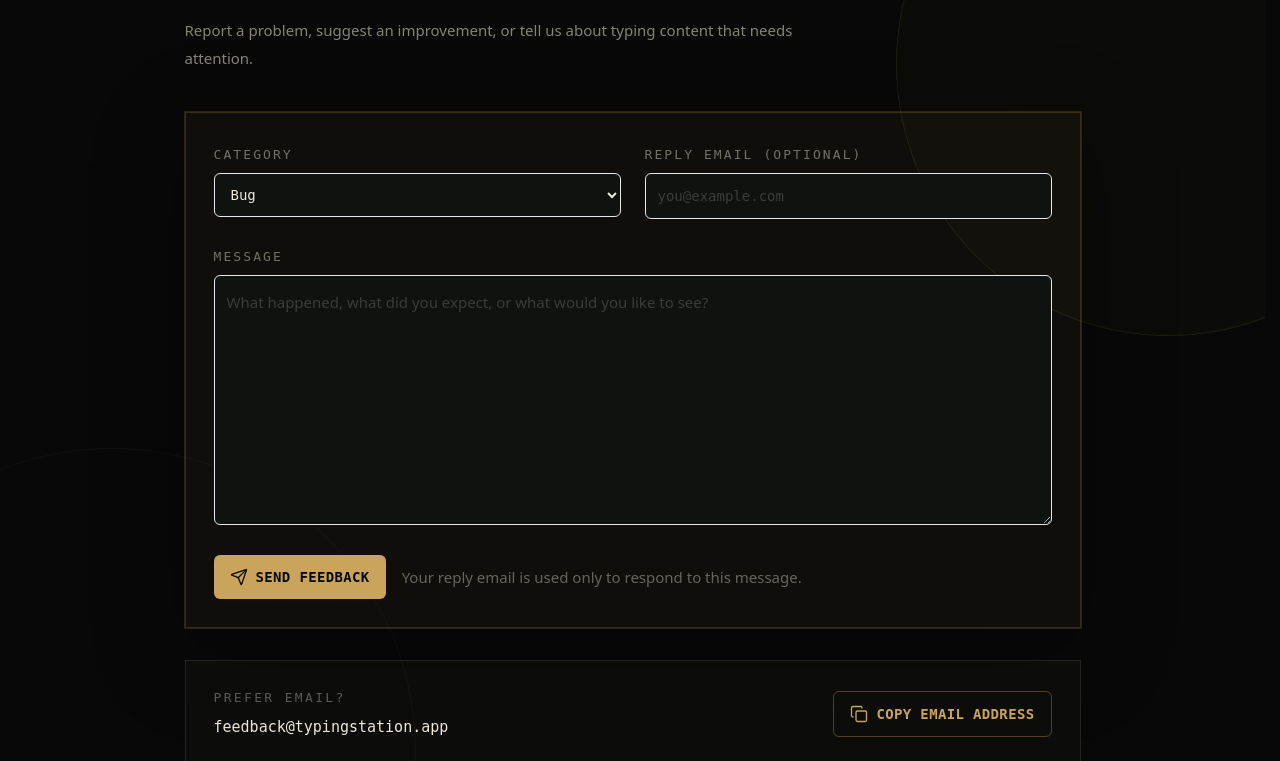
Test: FeedbackPage › preserves form data and shows an accessible retry message when rate limited
(page scrolled)
Replace the text in the text box labelled "Message" with "Please keep this draft." at (632, 400), box [214,275,1052,525]
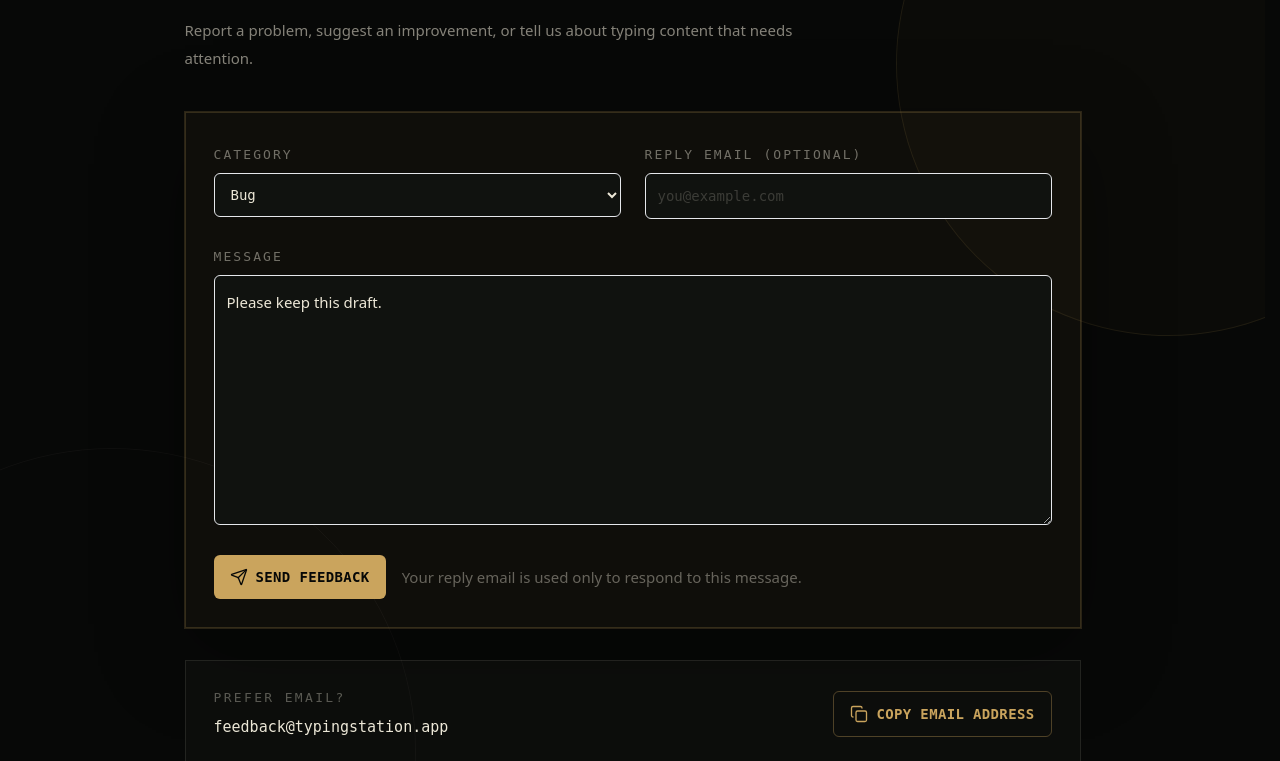
Click the button "Send feedback" at (300, 577), box [214,555,386,599]
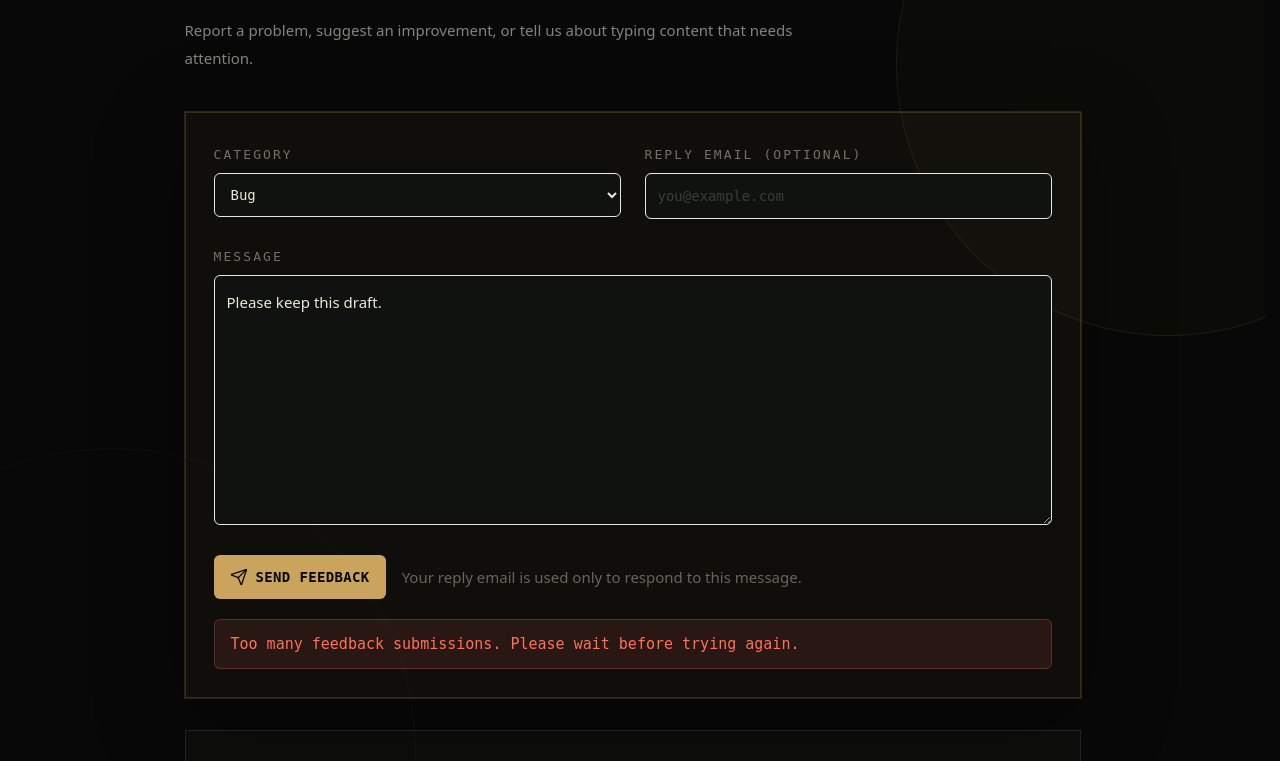
Expected: the message shows "Please wait before trying again", [230,635,800,653]
